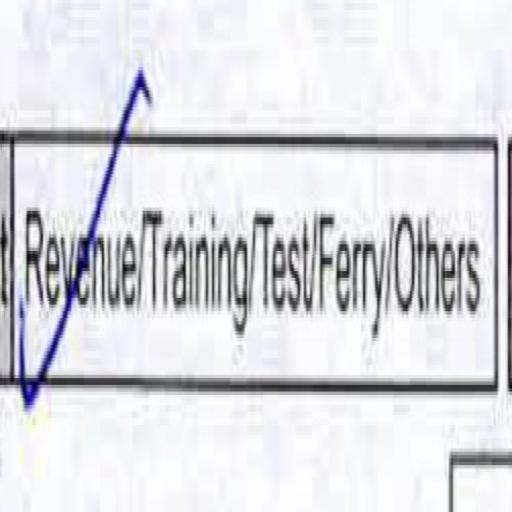check: (4, 44, 138, 398)
